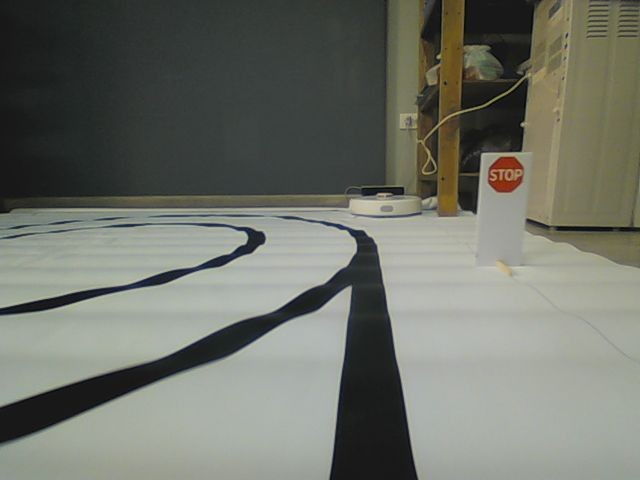Stop: (484, 157, 526, 193)
